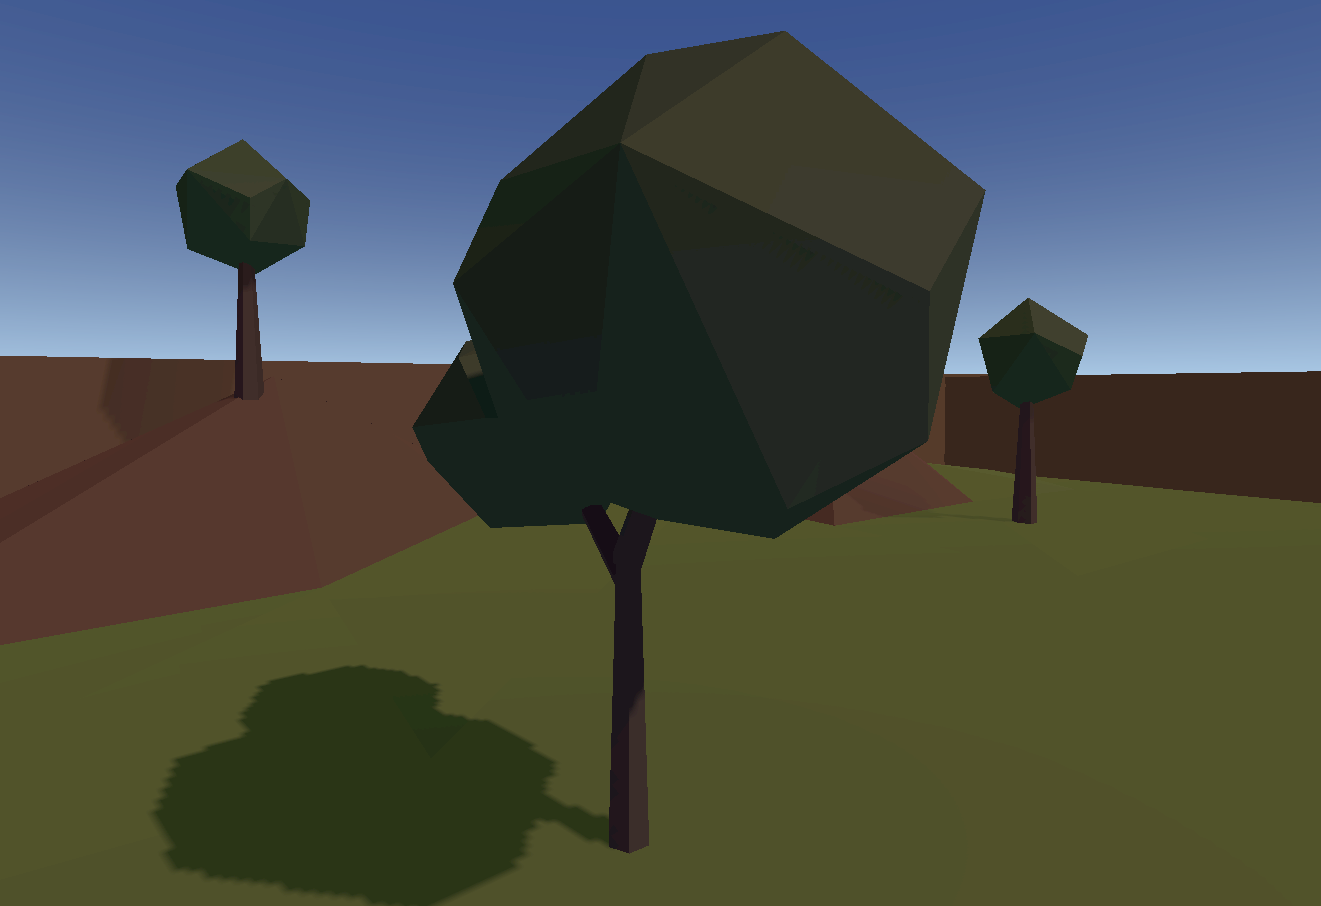tree: (414, 22, 988, 856), (173, 134, 320, 404), (973, 292, 1092, 527)
